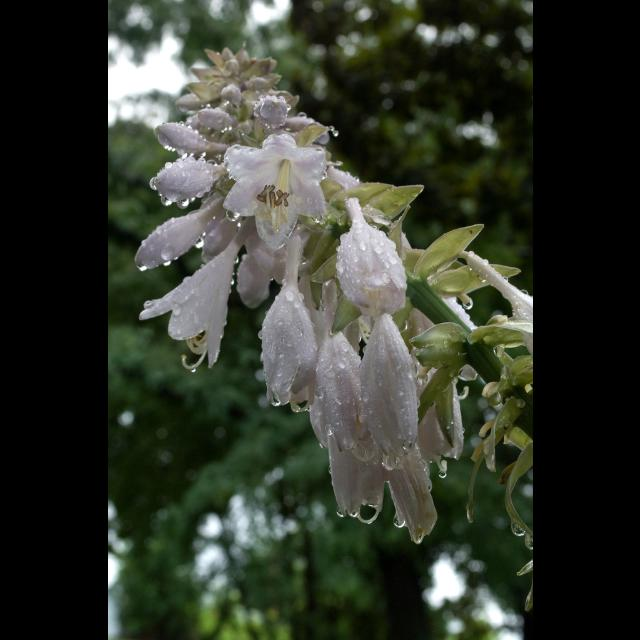Flower: (140, 46, 470, 558), (466, 250, 532, 350)
